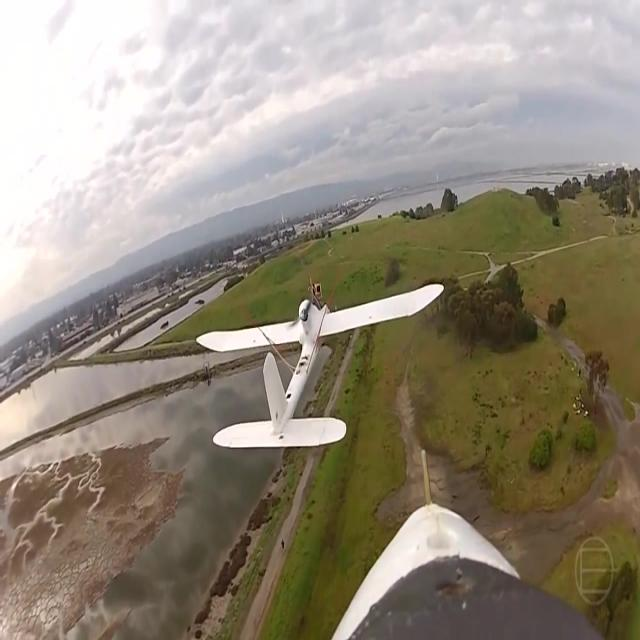iha: (195, 281, 445, 448)
